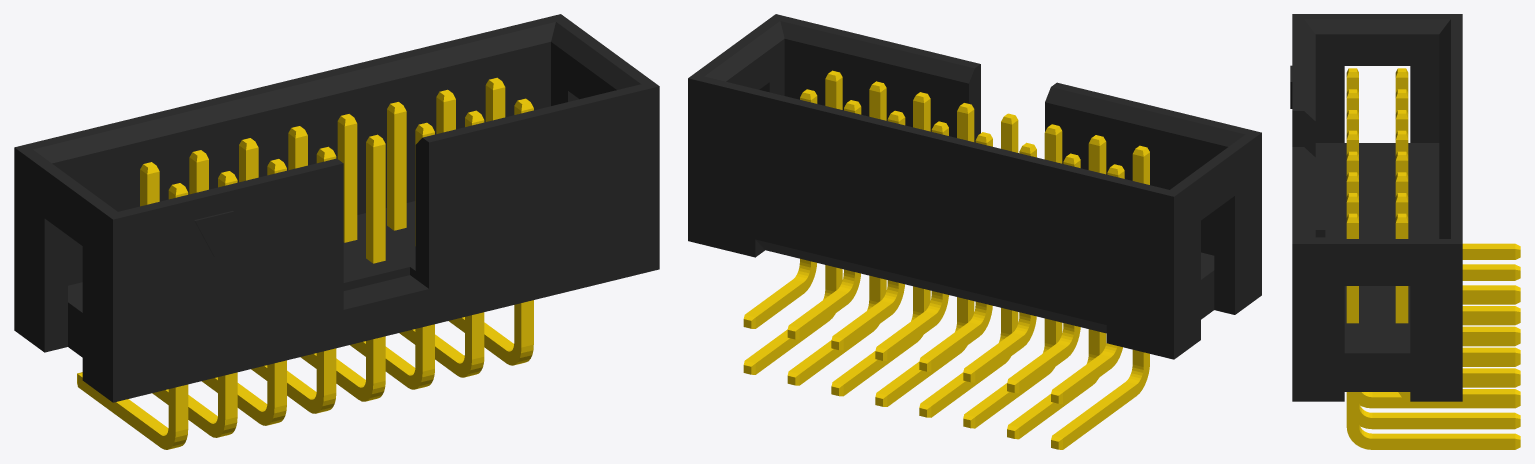
File: DS1013-16R (IDC-16R CONNFLY).obj
The picture shows the model from 3 angles, left to right: view 1: azimuth 30°, elevation 25°; view 2: azimuth 150°, elevation 25°; view 3: azimuth 270°, elevation 25°; orthographic projection. The views are drawn at different scales.
Parts seen in each view (by area): view 1: DS1013-16R_(IDC-16R_CONNFLY); view 2: DS1013-16R_(IDC-16R_CONNFLY); view 3: DS1013-16R_(IDC-16R_CONNFLY).
Part boxes in pixels (x1=…): DS1013-16R_(IDC-16R_CONNFLY): x1=14, y1=14, x2=659, y2=449; DS1013-16R_(IDC-16R_CONNFLY): x1=688, y1=14, x2=1261, y2=449; DS1013-16R_(IDC-16R_CONNFLY): x1=1290, y1=14, x2=1520, y2=449.
Size of the model in its own units: 0.0283 by 0.0141 by 0.012.
